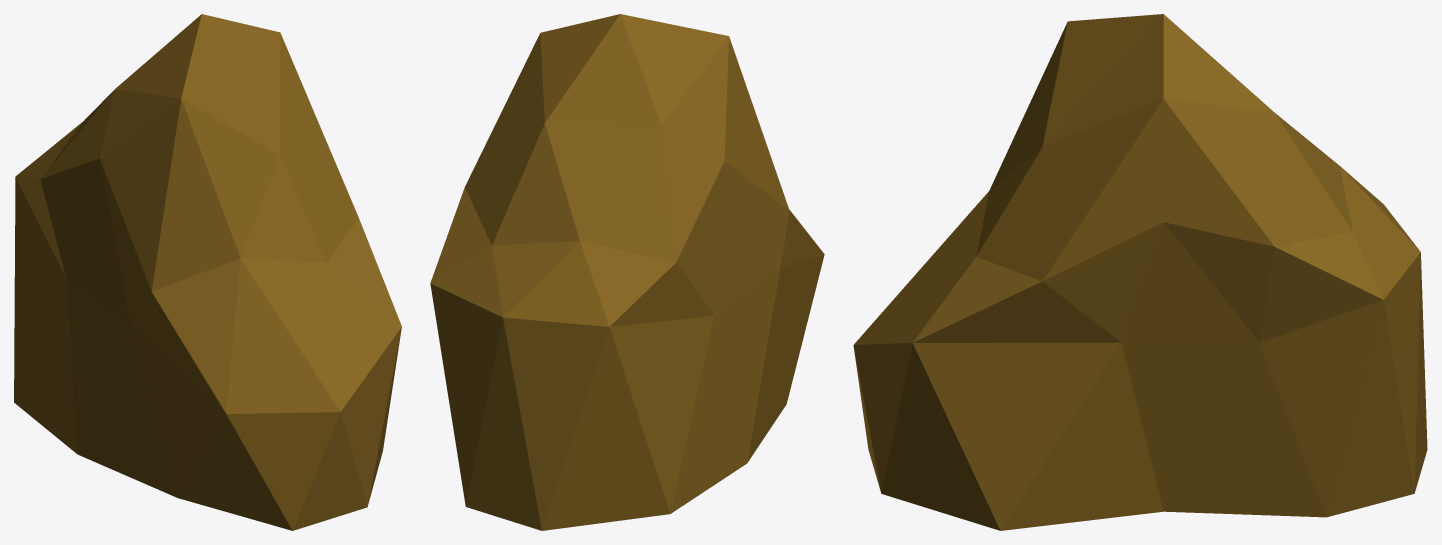
3 renders of one model, left to right at view 1: azimuth 30°, elevation 25°; view 2: azimuth 150°, elevation 25°; view 3: azimuth 270°, elevation 25°, orthographic. The views are drawn at different scales.
Parts seen in each view (by area): view 1: GeoSphere011; view 2: GeoSphere011; view 3: GeoSphere011.
Part boxes in pixels (x1,y1,x2,y2): GeoSphere011: [14, 14, 401, 530]; GeoSphere011: [430, 14, 824, 530]; GeoSphere011: [853, 14, 1427, 530].
Bounding box in the file's own units: 9.27 × 15.71 × 17.75.
